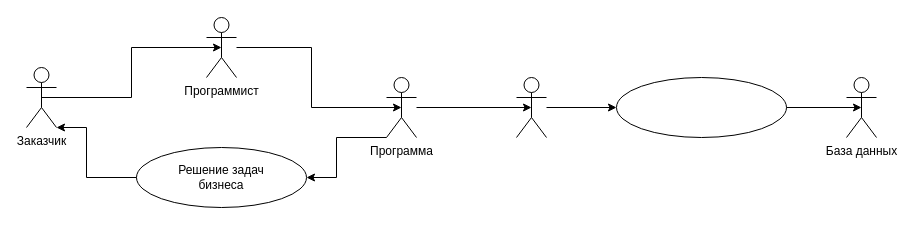
This 914x225 diagram has some shape labels left out. Here are the shapes that lost their labels. From the top down, the box of each, then its label:
(516, 76, 546, 138): Драйвер
(616, 76, 786, 138): Автоматизация взаимодействия с базой данных
